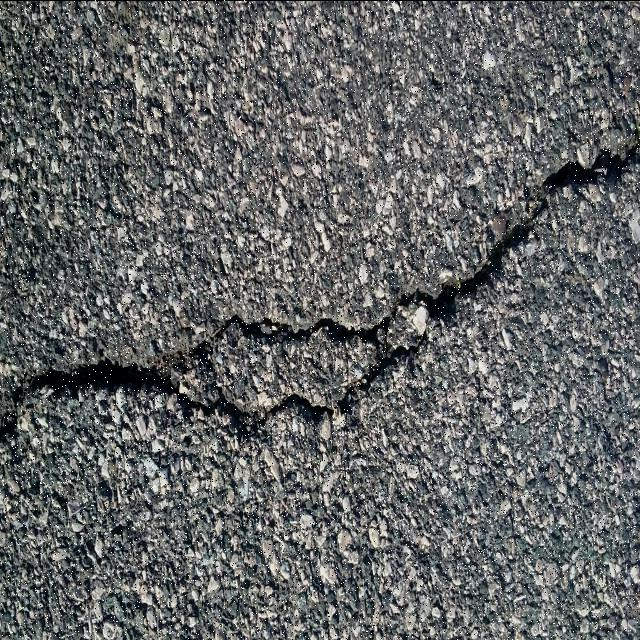Crack: (0, 137, 640, 447)
